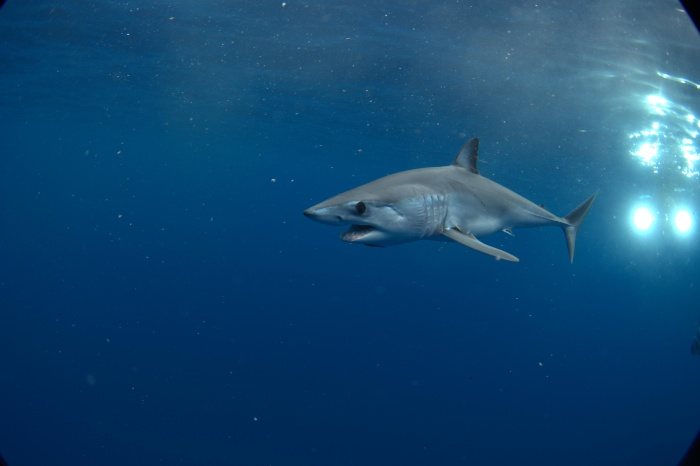Mako: (276, 130, 606, 277)
